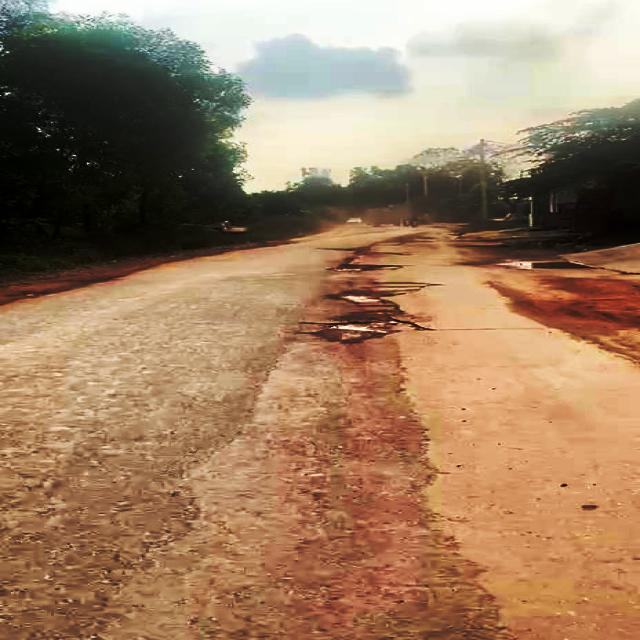pothole: (323, 318, 401, 341), (332, 292, 392, 306)
